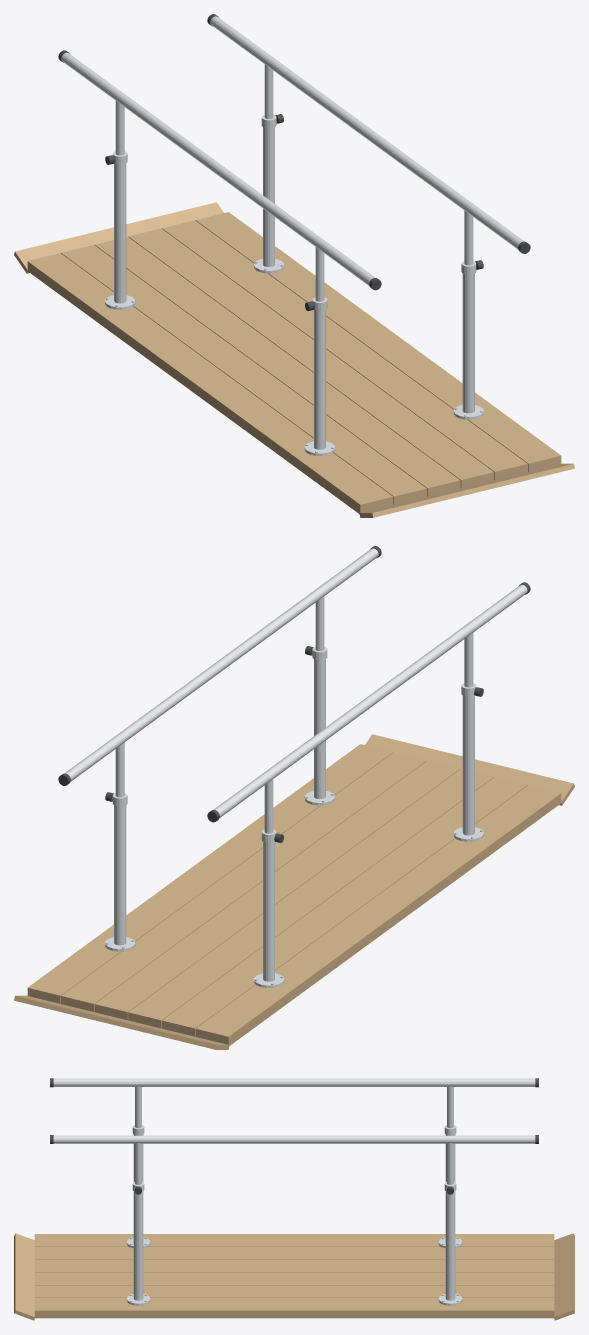
File: Rehabilitation_Room_bar1.fbx
3 renders of one model, top to bottom at view 1: azimuth 30°, elevation 25°; view 2: azimuth 150°, elevation 25°; view 3: azimuth 270°, elevation 25°, orthographic. The views are drawn at different scales.
Parts seen in each view (by area): view 1: 01_ParallelBars_Intact_Mesh; view 2: 01_ParallelBars_Intact_Mesh; view 3: 01_ParallelBars_Intact_Mesh.
Boxes of the visible parts, box(x1,y1,x2,y2) form: 01_ParallelBars_Intact_Mesh: box(14, 14, 574, 517); 01_ParallelBars_Intact_Mesh: box(14, 546, 574, 1049); 01_ParallelBars_Intact_Mesh: box(14, 1078, 574, 1320).
Bounding box in the file's own units: 84 × 89.21 × 259.
